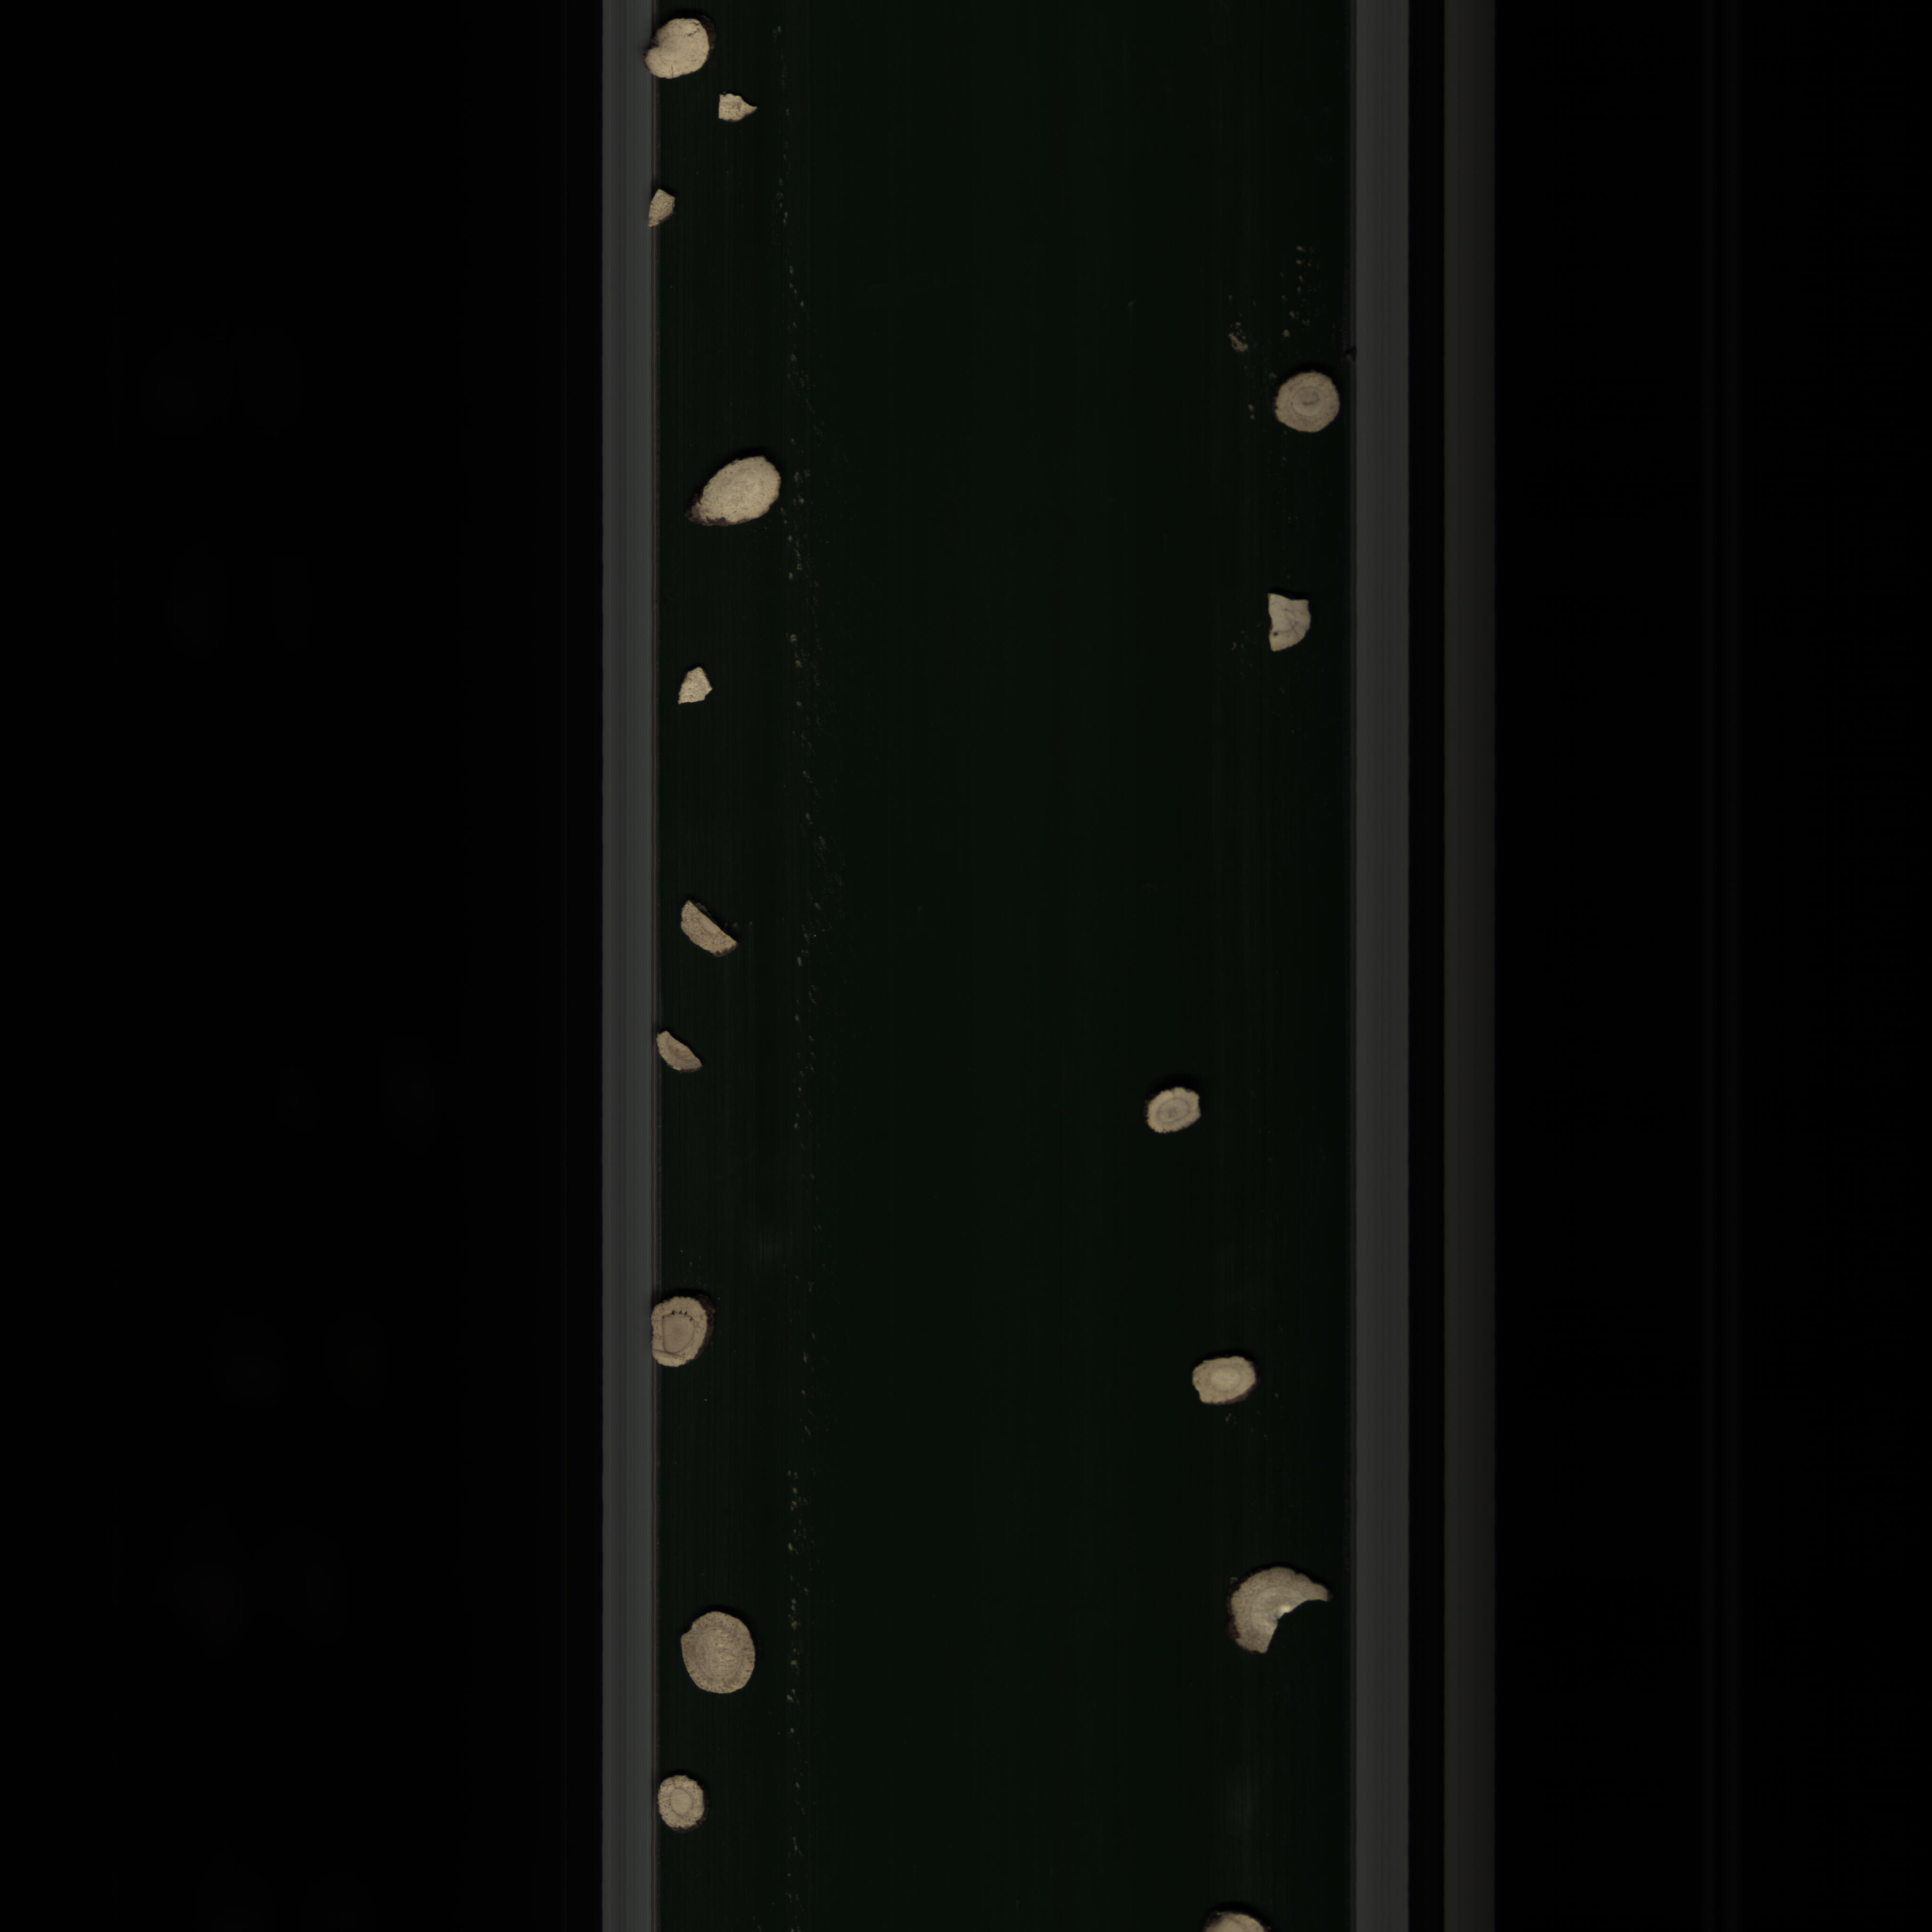debris: (1226, 1560, 1336, 1658), (676, 893, 743, 968), (1258, 582, 1313, 665), (653, 1026, 711, 1077), (672, 662, 727, 709), (717, 88, 770, 129), (648, 188, 688, 234)
distortion: (672, 444, 791, 538), (644, 14, 718, 78)
